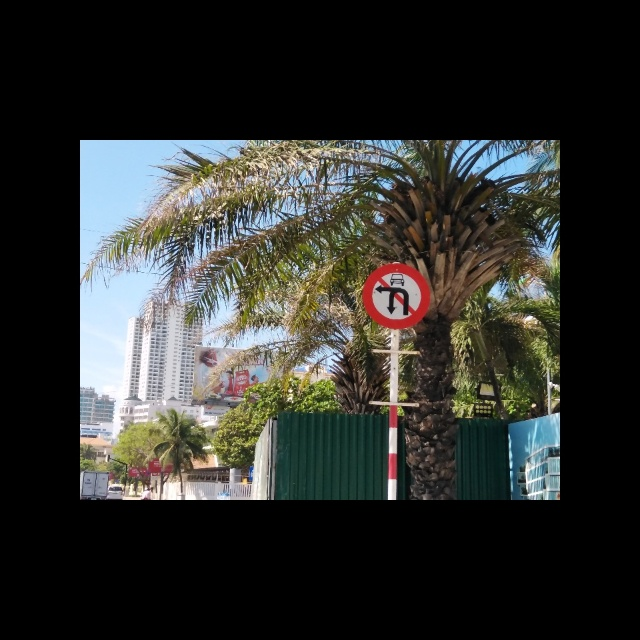Cấm xe ô tô quay đầu và rẽ trái: (360, 262, 432, 332)
